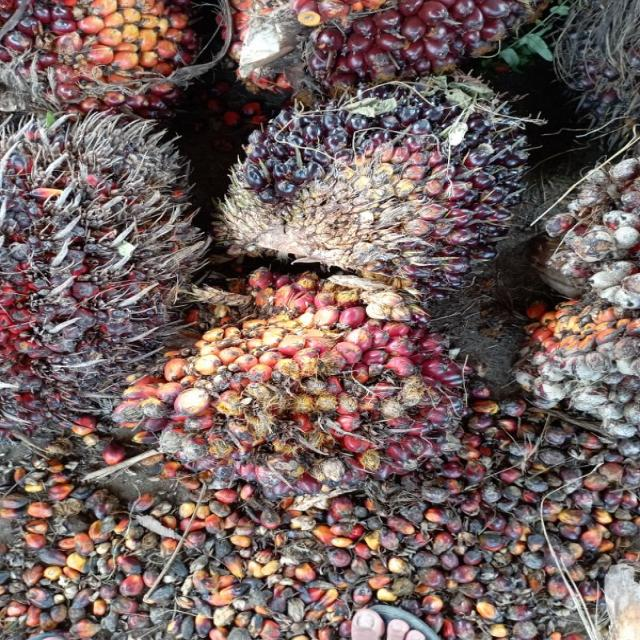fraksi 00: (233, 73, 541, 279)
fraksi 3: (135, 268, 468, 510)
fraksi 4: (0, 105, 214, 435)
